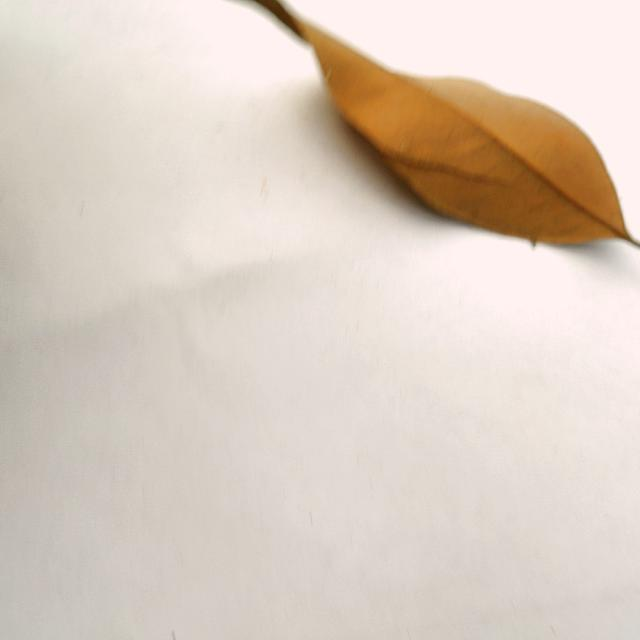Dry_Leaf-Lychee: (232, 0, 634, 248)
